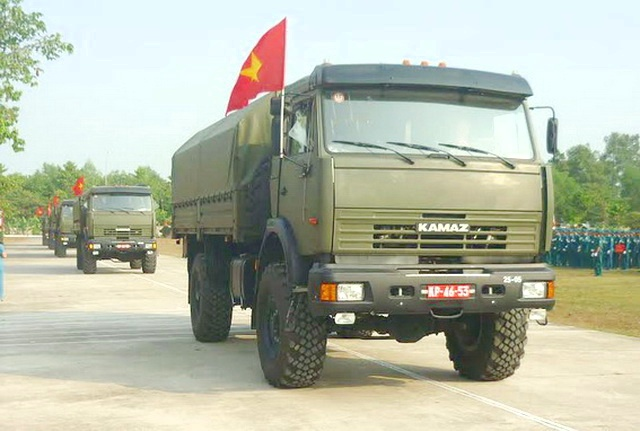plate: (424, 280, 476, 303)
